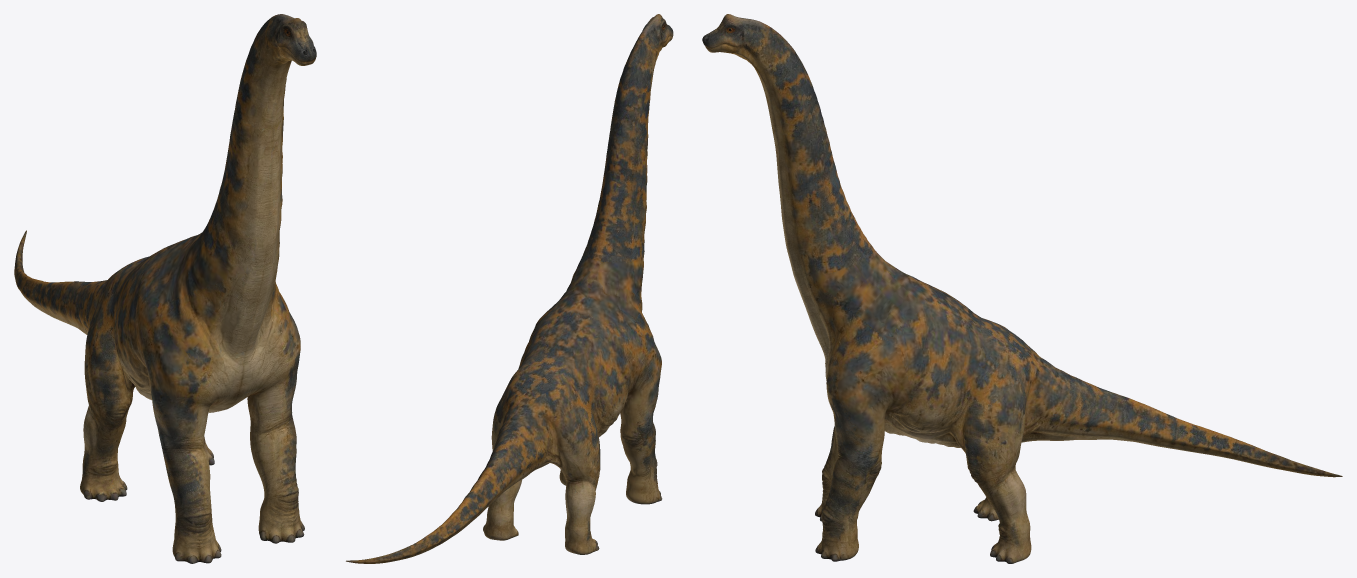
The model's file is brachiosaurus.glb.
3 views of the same model, side by side, from view 1: azimuth 30°, elevation 25°; view 2: azimuth 150°, elevation 25°; view 3: azimuth 270°, elevation 25° (orthographic). The views are drawn at different scales.
Parts seen in each view (by area): view 1: brachiosaurus; view 2: brachiosaurus; view 3: brachiosaurus.
Boxes of the visible parts, bbox=[...] form: brachiosaurus: bbox=[14, 14, 316, 563]; brachiosaurus: bbox=[346, 14, 673, 563]; brachiosaurus: bbox=[702, 14, 1342, 563].
Size of the model in its own units: 3.09 by 11.97 by 13.4.
1 material, 1 textured.
